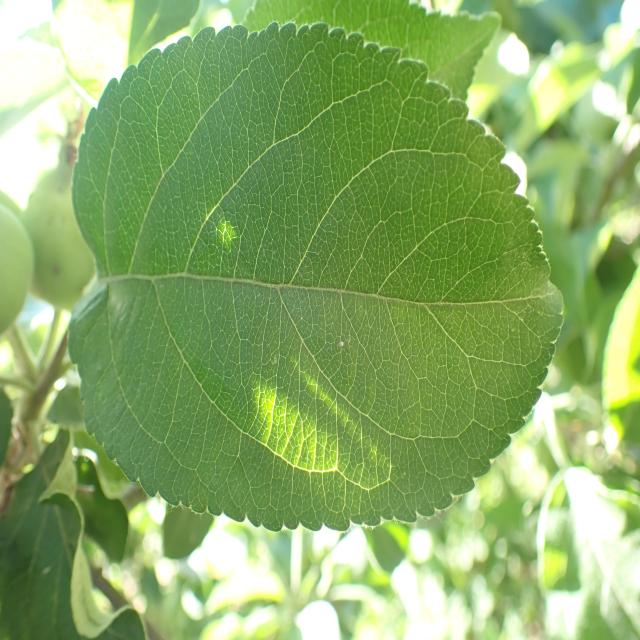healthy: (69, 19, 565, 534), (236, 0, 502, 106)
